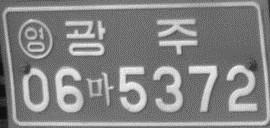0: (21, 67, 50, 114)
2: (225, 64, 258, 112)
3: (152, 65, 184, 114)
5: (118, 65, 148, 113)
6: (54, 66, 84, 114)
7: (187, 65, 219, 113)
광주_D: (64, 17, 198, 57)
마: (84, 70, 114, 107)
영: (17, 18, 54, 60)
